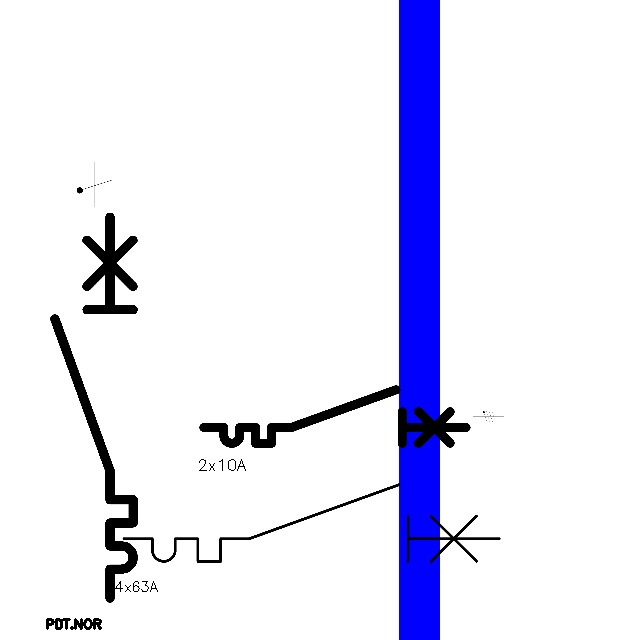interruptor_termomagnetico: (45, 207, 143, 608), (114, 475, 508, 571), (197, 383, 473, 450)
